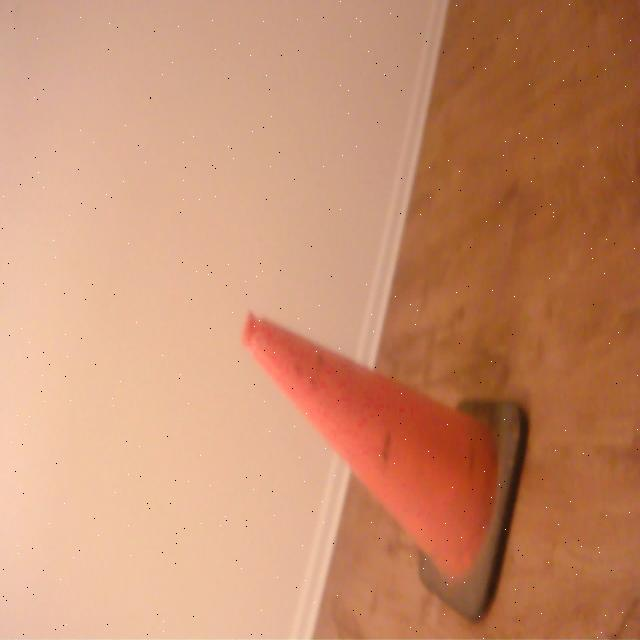traffic cone: (240, 306, 534, 622)
